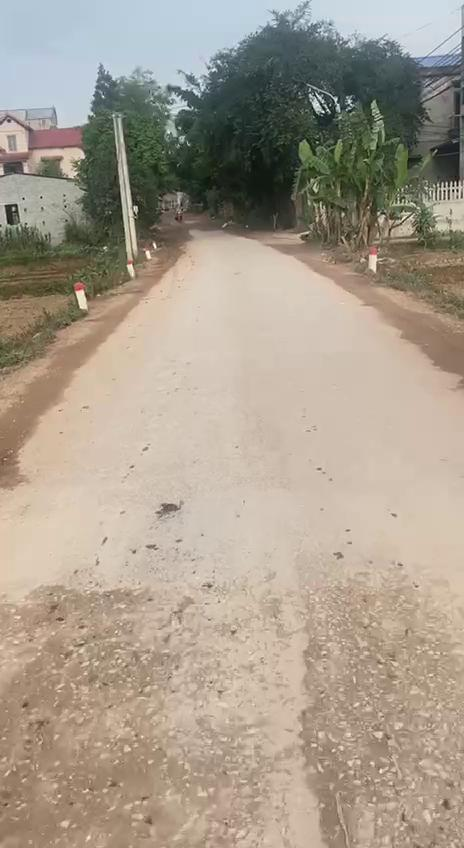pothole: (278, 564, 464, 848)
